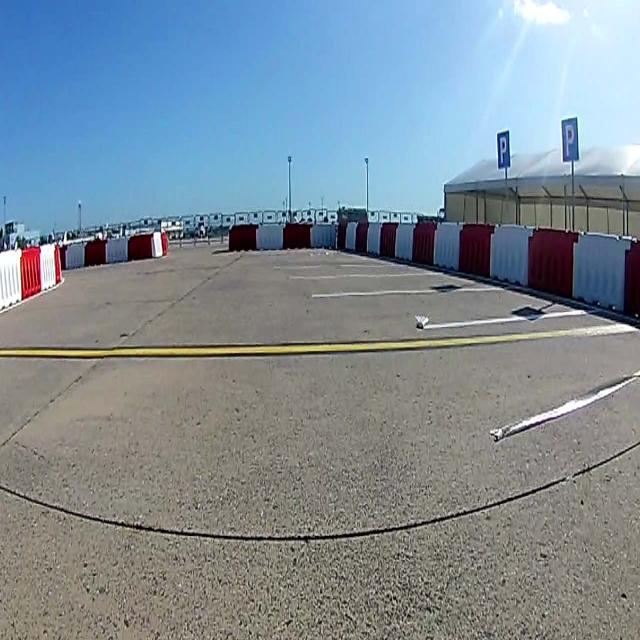park: (560, 116, 580, 164), (496, 130, 510, 169)
